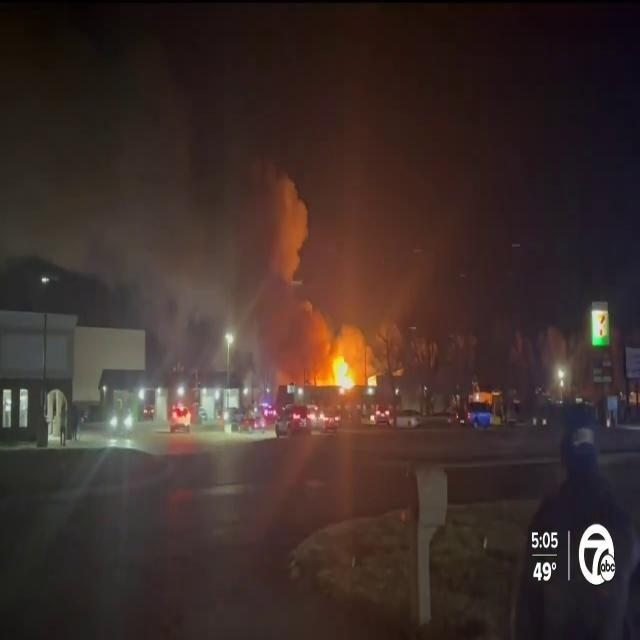Fire: (320, 346, 360, 396)
Smoke: (0, 2, 307, 362)
